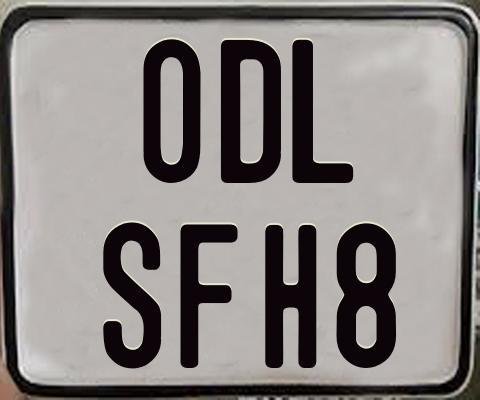0: (143, 36, 201, 185)
8: (335, 221, 399, 366)
D: (219, 38, 285, 184)
F: (180, 224, 242, 374)
H: (264, 222, 320, 369)
L: (290, 39, 351, 182)
S: (101, 220, 165, 367)
